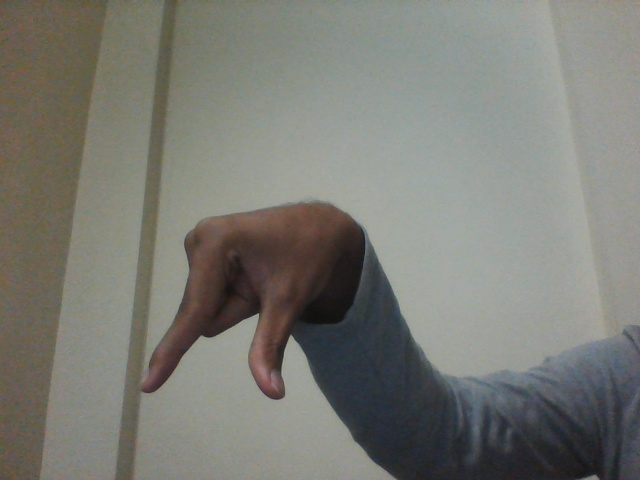q: (132, 199, 334, 411)
